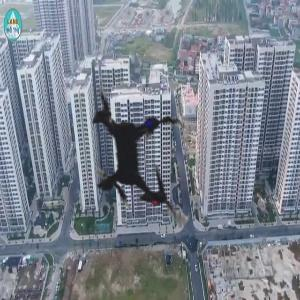drone: (17, 39, 257, 279)
